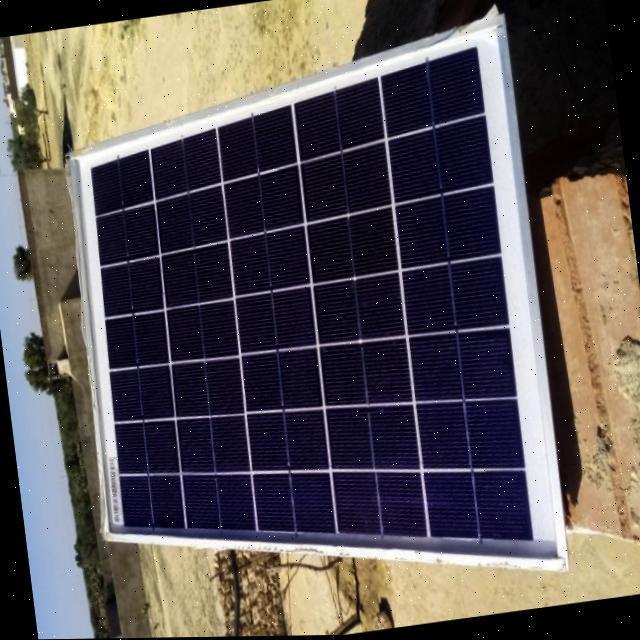Normal Solar Panel: (50, 17, 572, 630)
